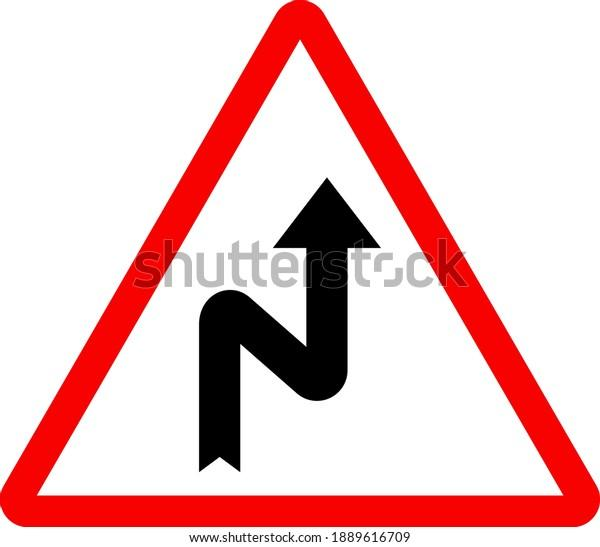Right Reverse Bend: (45, 27, 589, 530)
